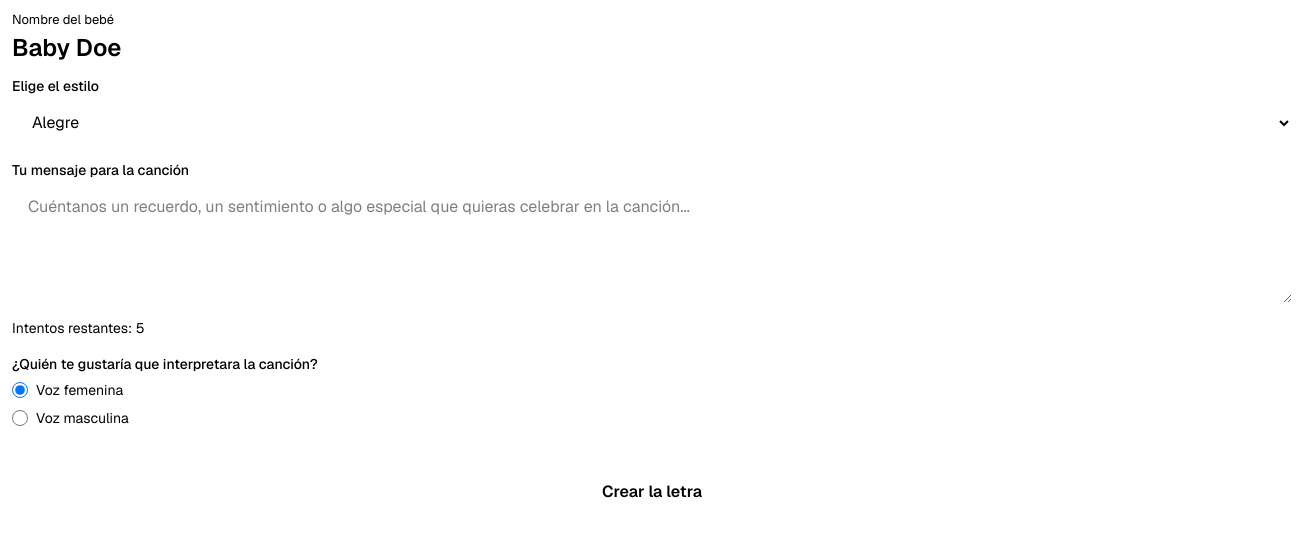
it: LyricsWorkflow › generates lyrics successfully and shows the review panel, never sending a Lead id
Type "A gentle bedtime song." into the text box labelled "Tu mensaje para la canción" at (652, 243), box x1=12 y1=183 x2=1292 y2=303
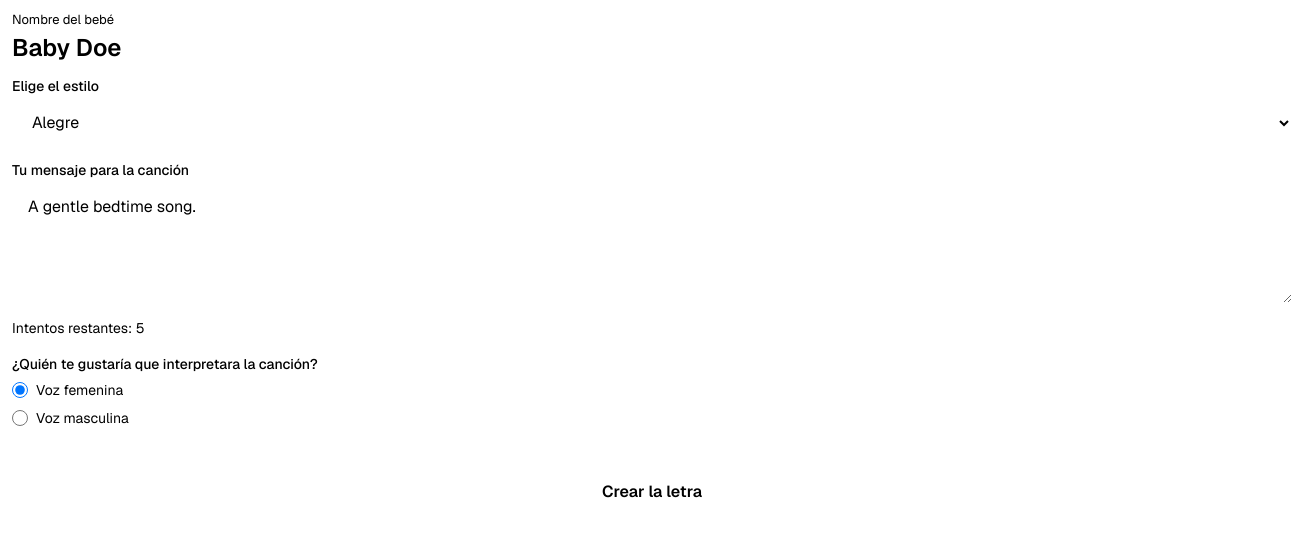
Click the button "Crear la letra" at (652, 492), box x1=12 y1=468 x2=1292 y2=516
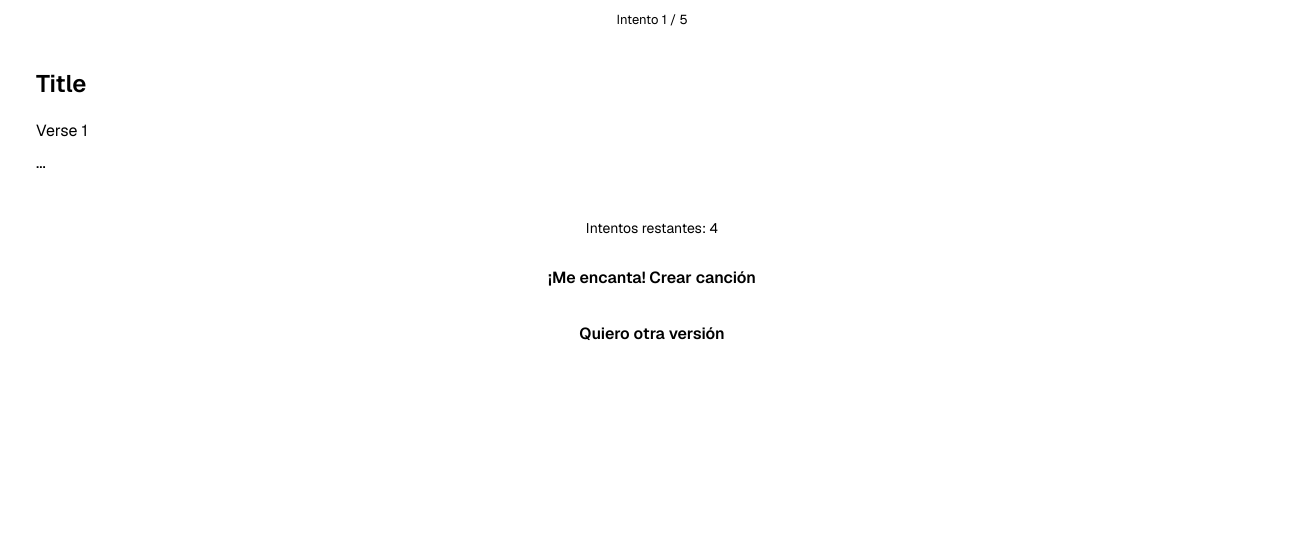
Now the heading "Title" is shown, box x1=36 y1=68 x2=86 y2=99
Now the button "¡Me encanta! Crear canción" is shown, box x1=12 y1=254 x2=1292 y2=302
Now the button "Quiero otra versión" is shown, box x1=12 y1=310 x2=1292 y2=358
